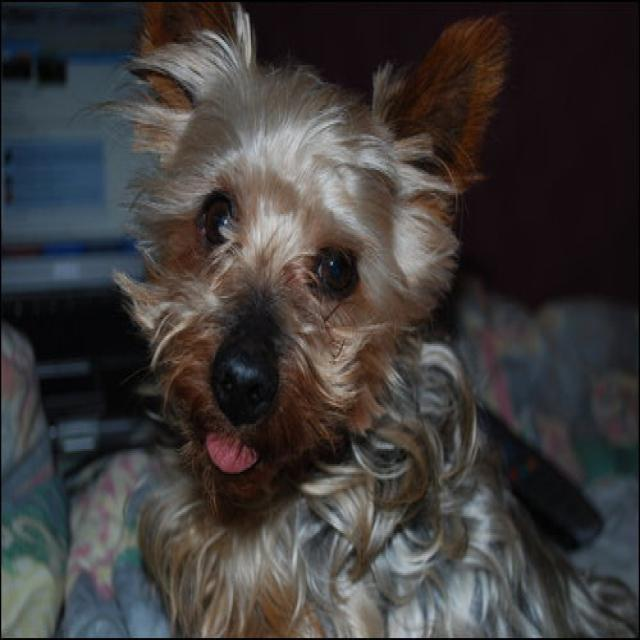dog-yorkshire_terrier: (79, 2, 637, 636)
